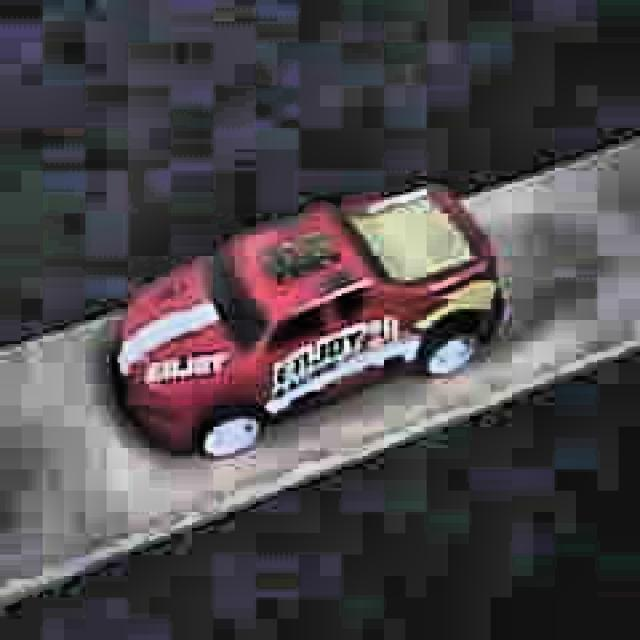car: (111, 180, 504, 461)
